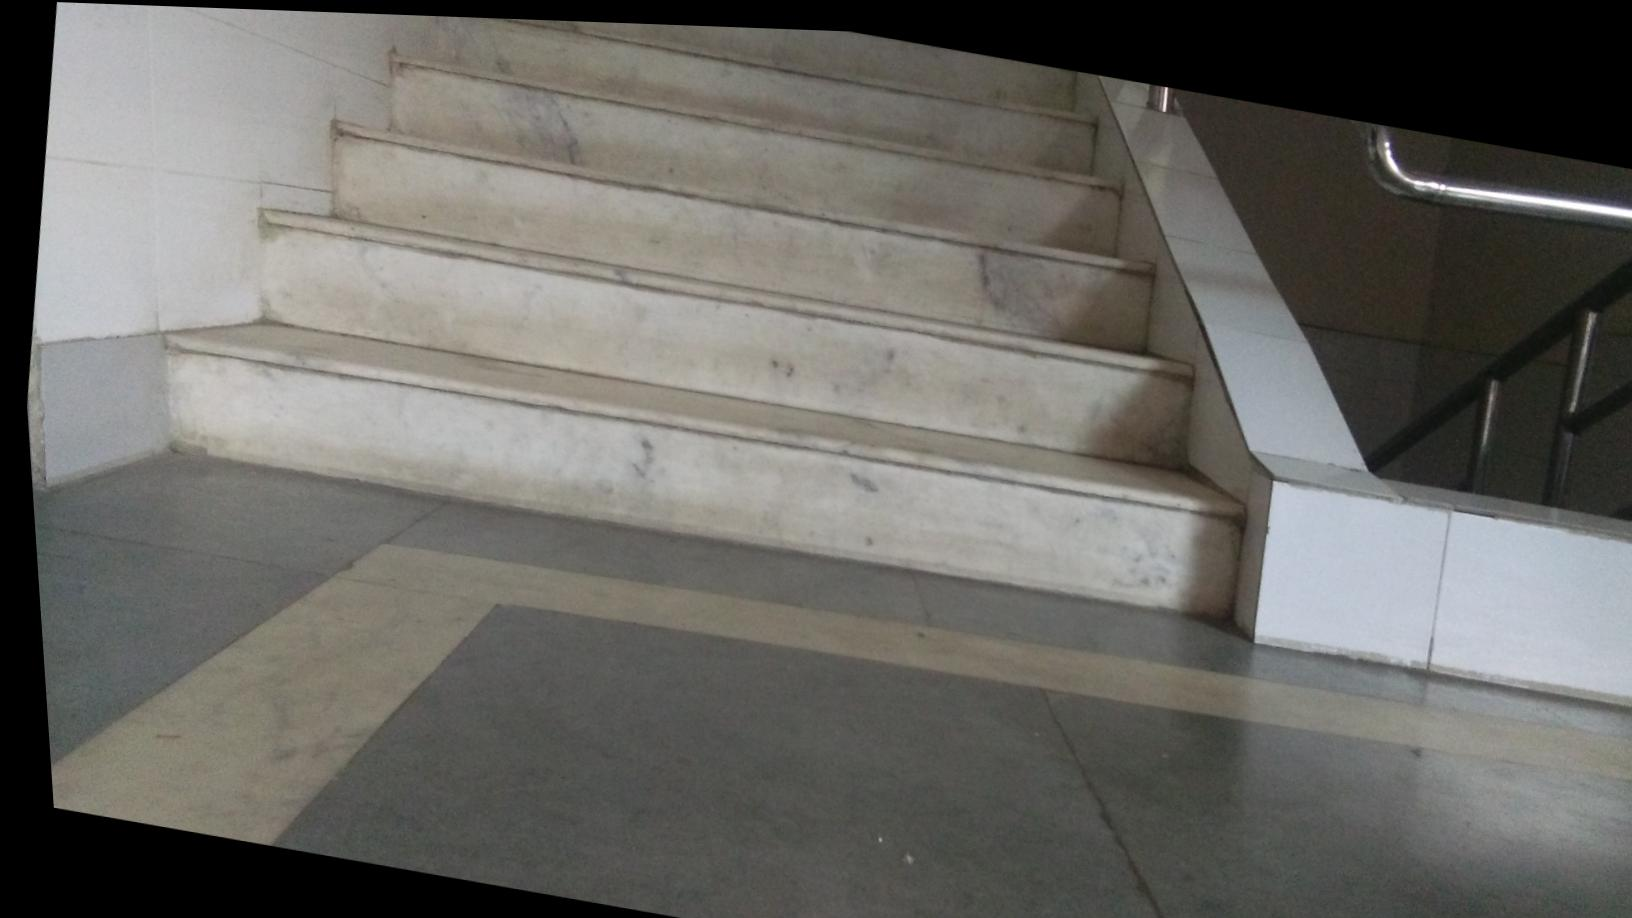Bench: (98, 3, 1304, 605)
